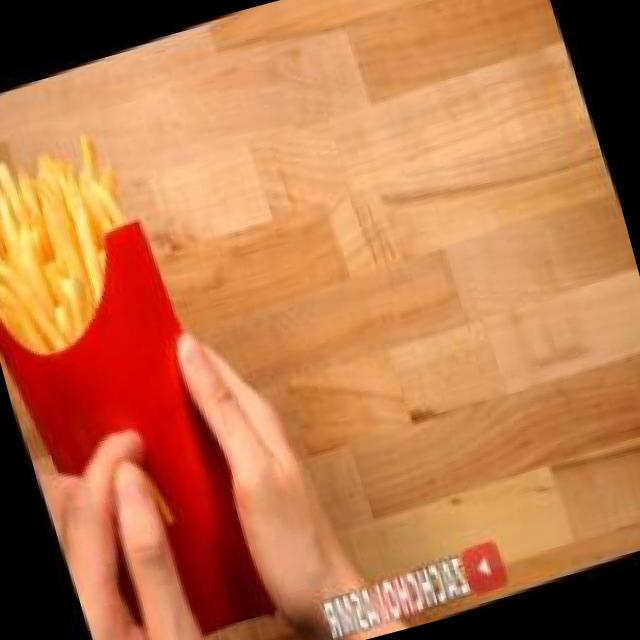french fries: (0, 98, 185, 405)
